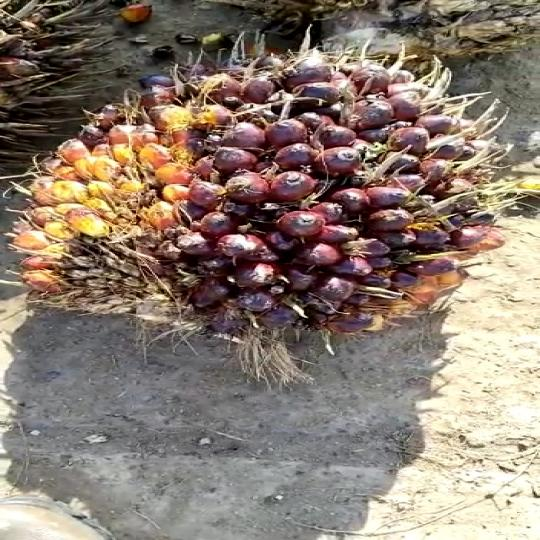kurang masak: (10, 29, 514, 353)
